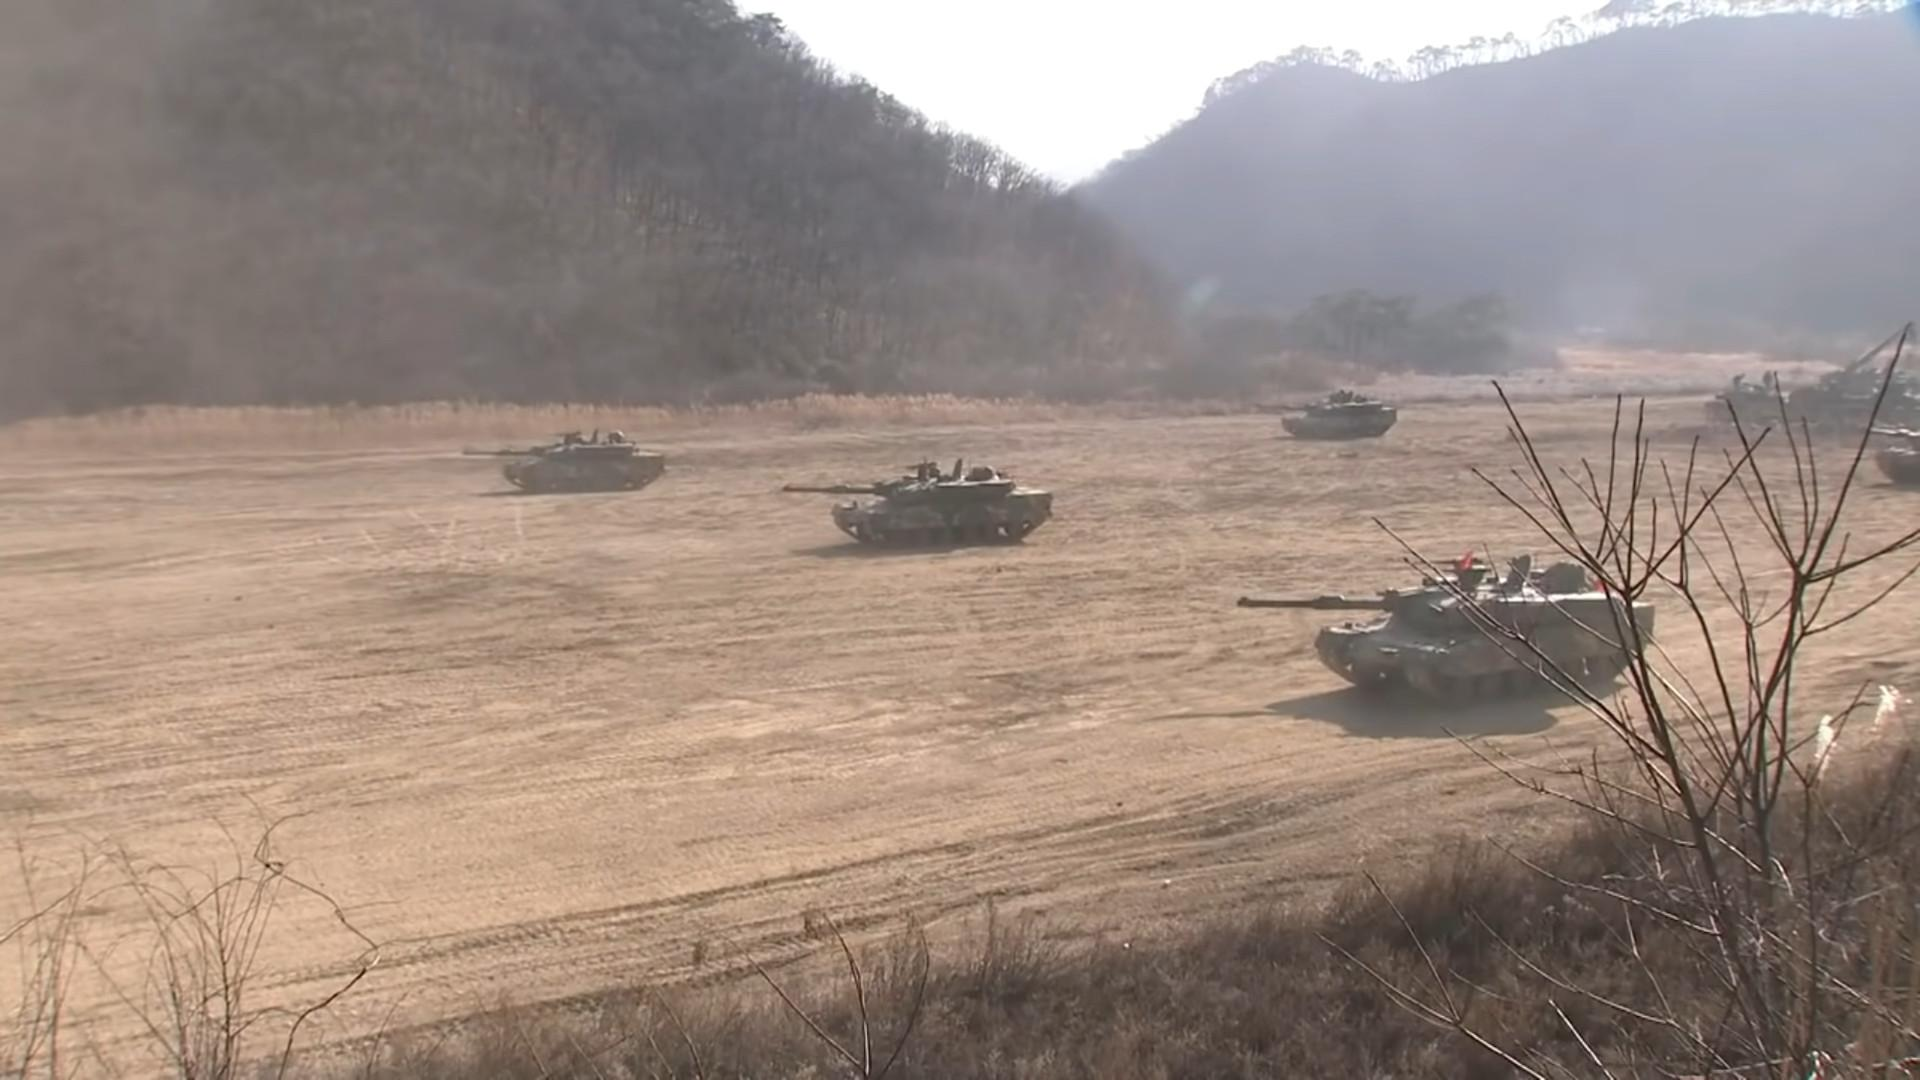tank: (1237, 555, 1654, 708), (783, 458, 1051, 550), (462, 429, 665, 492), (1255, 389, 1396, 439)
